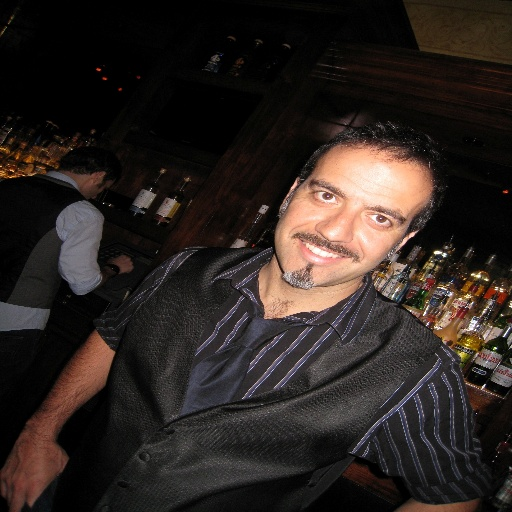hand: (0, 428, 69, 511), (109, 254, 136, 276)
